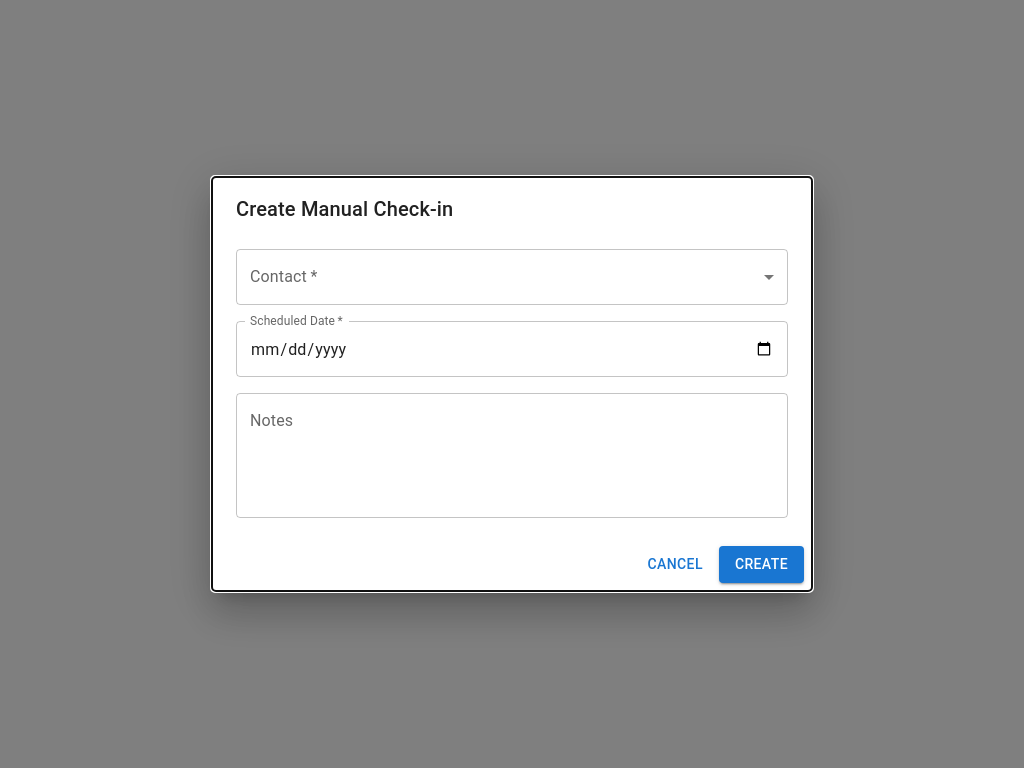
Test: CreateCheckInModal › should require contact selection
In the date field labelled "Scheduled Date *": (512, 349) 236,321 -> 788,377, type "2026-03-15"
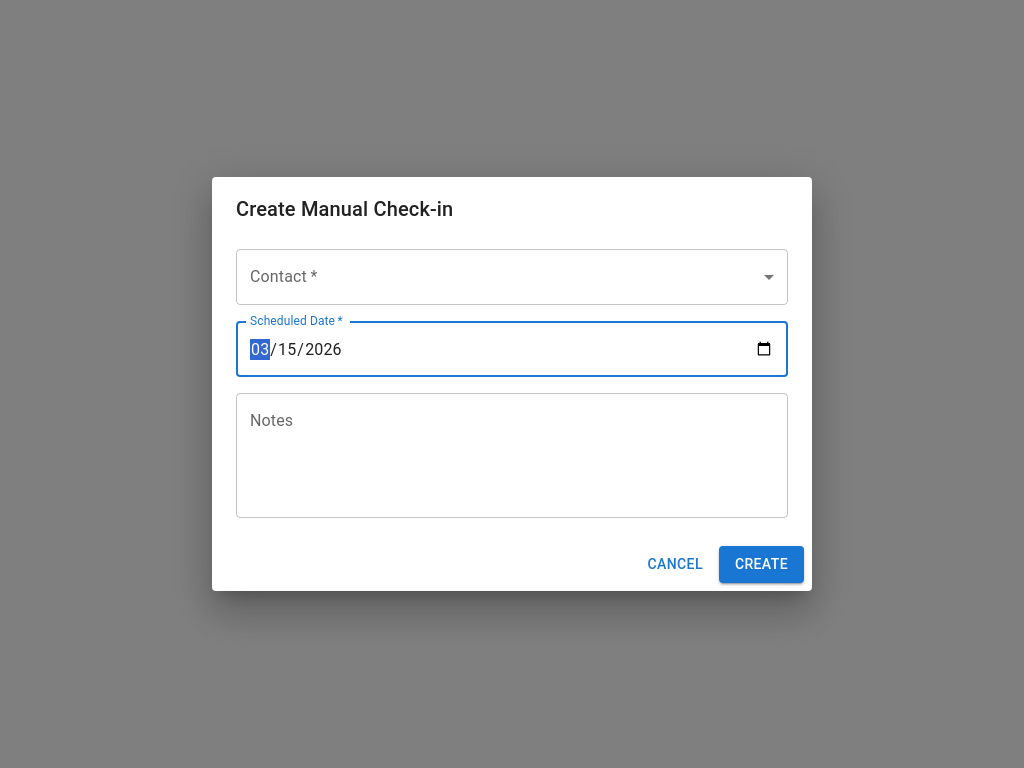
Click the button "Create": (761, 565) 719,546 -> 804,583
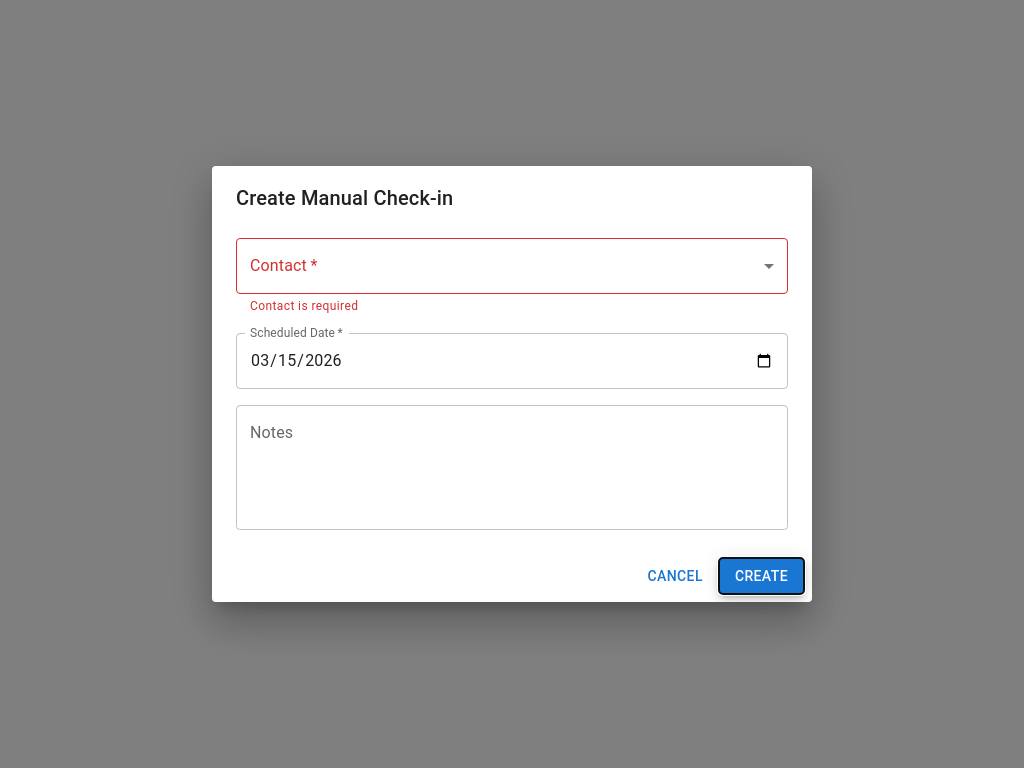
expect the text "Contact is required" is shown: met, box 250,299 -> 358,313
